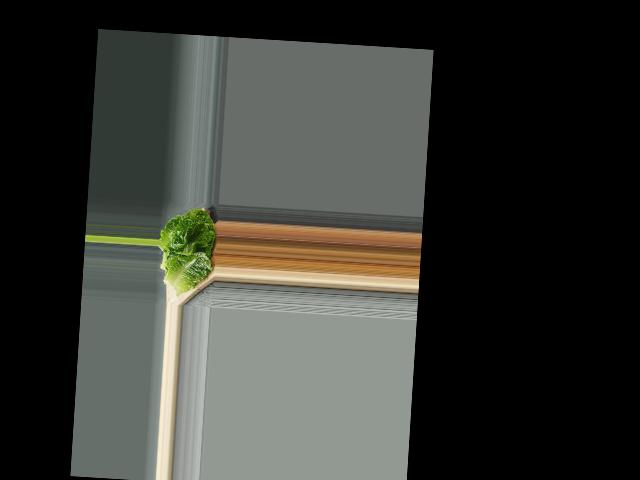lettuce: (156, 204, 219, 294)
